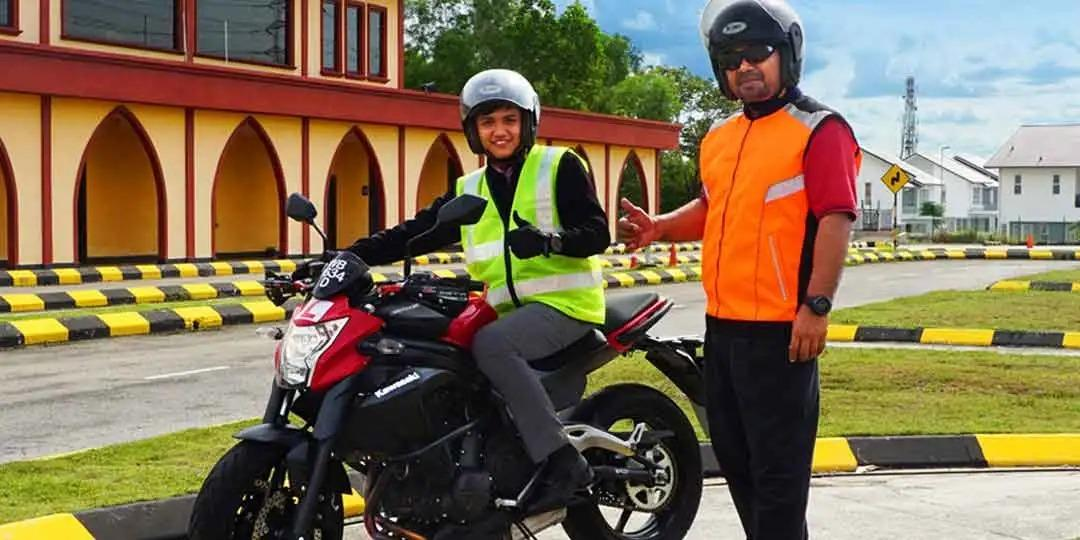helmet: (699, 0, 806, 101), (459, 68, 542, 158)
